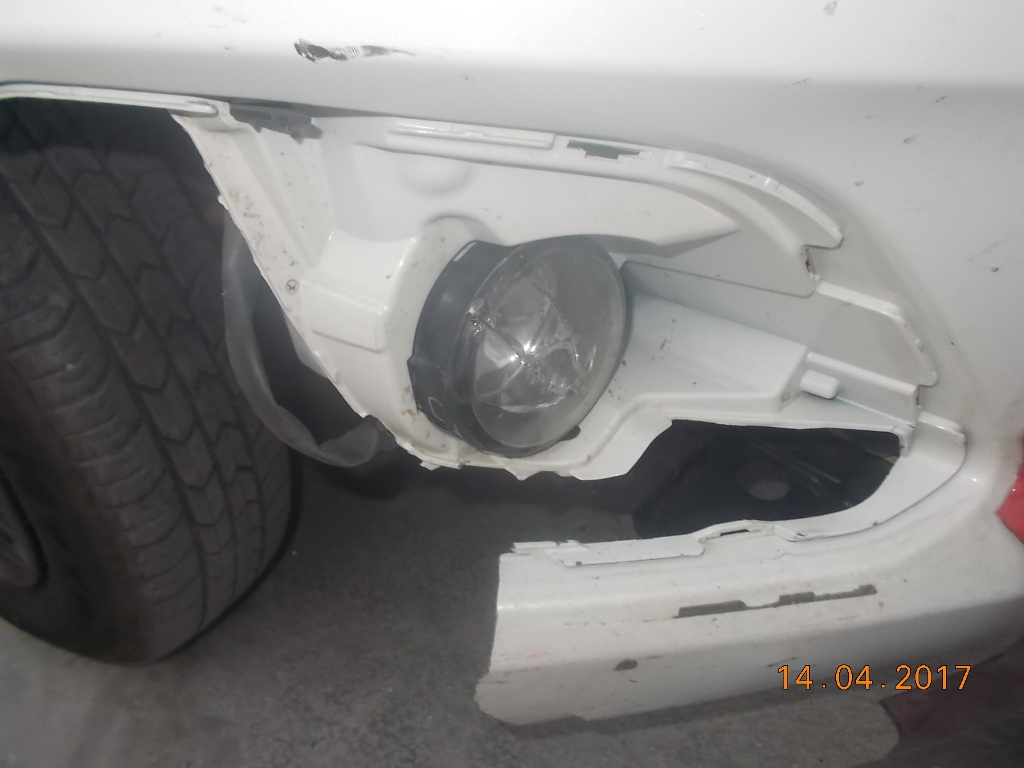Scratch_or_spot: (285, 28, 405, 83)
